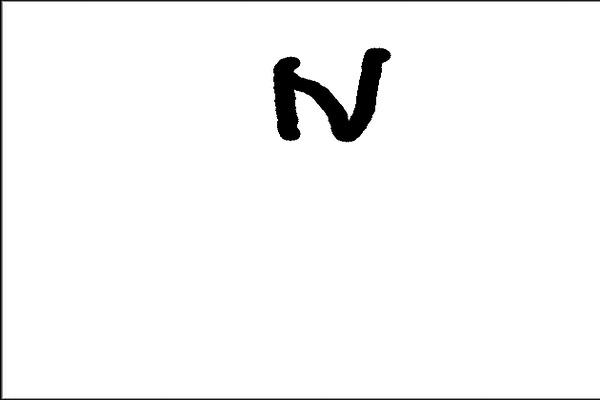N: (265, 43, 396, 148)
